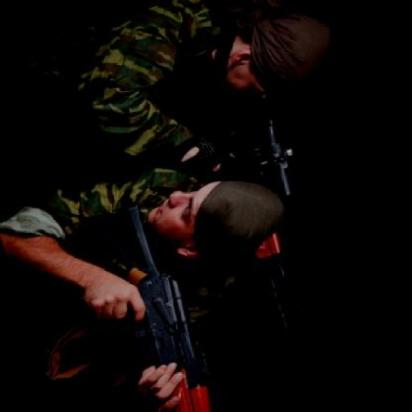Gun: (145, 27, 346, 350), (4, 184, 244, 412)
